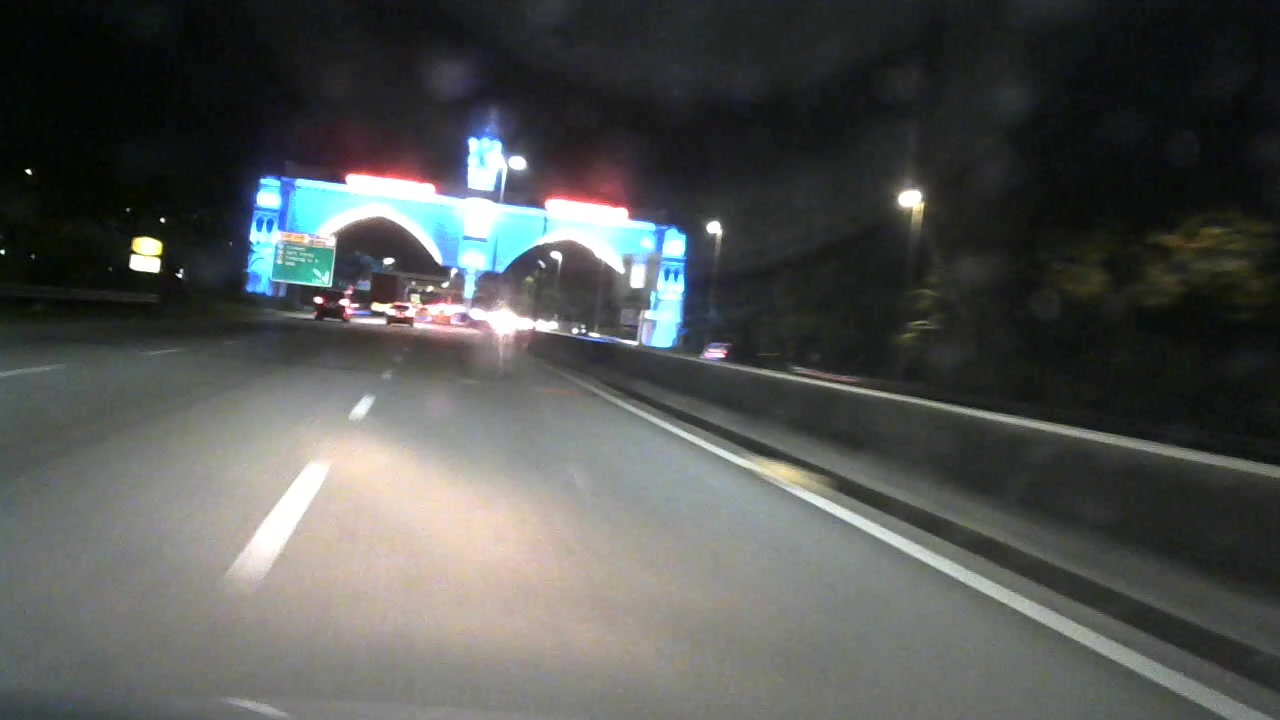Car: (316, 291, 353, 328), (382, 297, 420, 330)
